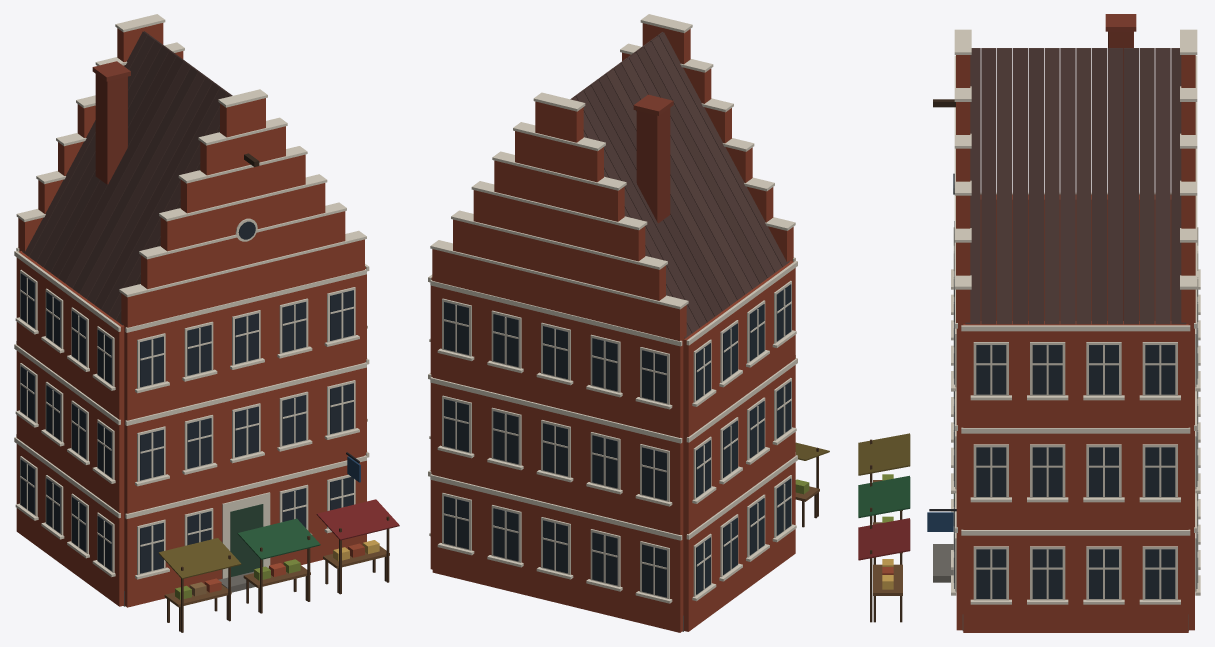
Rendered from market_3.glb.
The picture shows the model from 3 angles, left to right: view 1: azimuth 30°, elevation 25°; view 2: azimuth 150°, elevation 25°; view 3: azimuth 270°, elevation 25°; orthographic projection. The views are drawn at different scales.
Visible parts, largest first — view 1: market3_brick, market3_tiles, market3_glass, market3_wood, market3_stone, market3_cloth; view 2: market3_brick, market3_tiles, market3_glass, market3_stone, market3_wood; view 3: market3_tiles, market3_brick, market3_glass, market3_stone, market3_wood, market3_cloth.
Part boxes in pixels (bbox=[...]): market3_brick: bbox=[16, 23, 366, 607]; market3_tiles: bbox=[22, 31, 232, 325]; market3_glass: bbox=[20, 221, 353, 573]; market3_wood: bbox=[20, 153, 389, 632]; market3_stone: bbox=[14, 14, 369, 606]; market3_cloth: bbox=[158, 499, 399, 579]; market3_brick: bbox=[430, 23, 795, 632]; market3_tiles: bbox=[570, 32, 789, 338]; market3_glass: bbox=[444, 284, 791, 597]; market3_stone: bbox=[428, 14, 797, 631]; market3_wood: bbox=[442, 280, 819, 598]; market3_tiles: bbox=[965, 48, 1186, 324]; market3_brick: bbox=[956, 14, 1195, 632]; market3_glass: bbox=[953, 173, 1197, 598]; market3_stone: bbox=[933, 29, 1200, 630]; market3_wood: bbox=[870, 99, 1198, 622]; market3_cloth: bbox=[858, 433, 910, 560].
Size of the model in its own units: 8.64 by 15.47 by 9.11.
